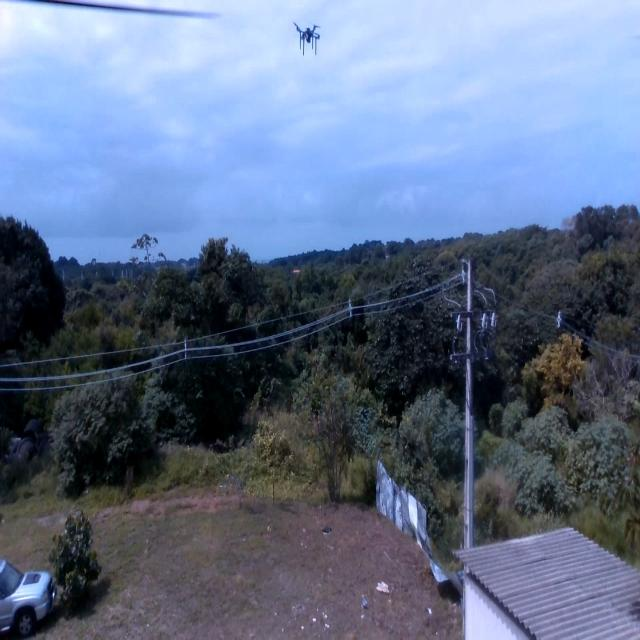-uav-: (290, 13, 326, 62)
